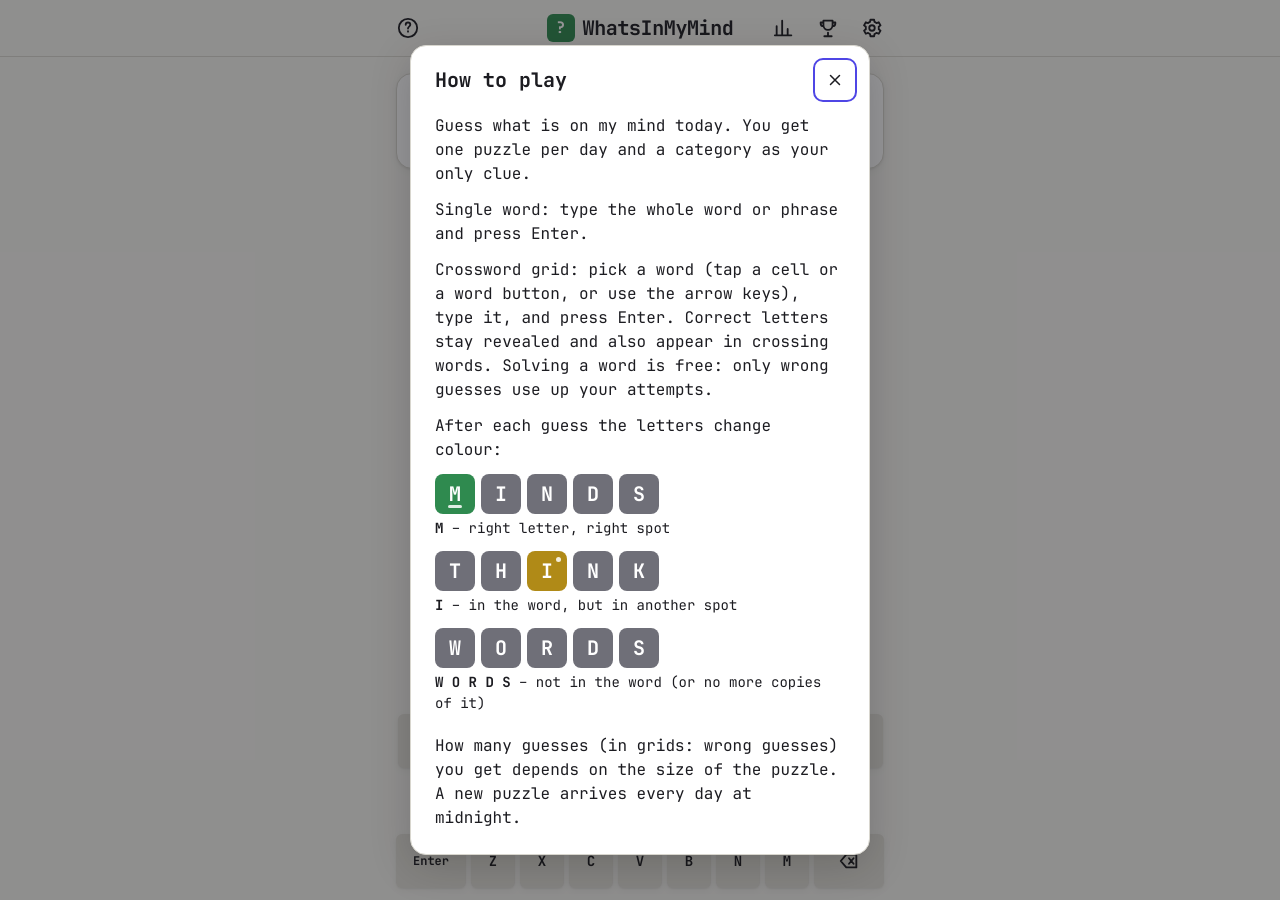
App › shows the help on the first visit only
Click the button named "Close" in the row of "How to play": (835, 80) x1=817 y1=62 x2=853 y2=98
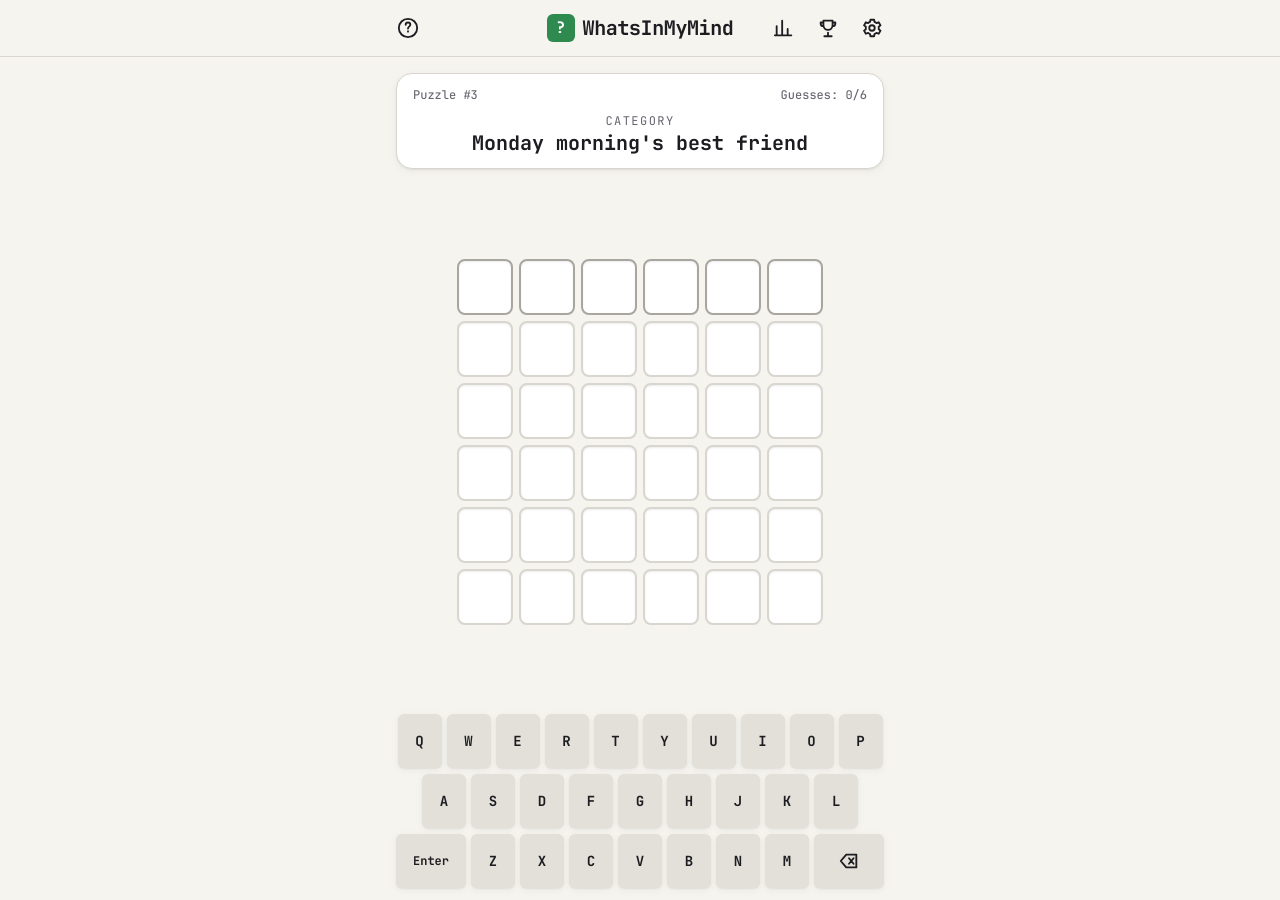
Now the dialog is gone
